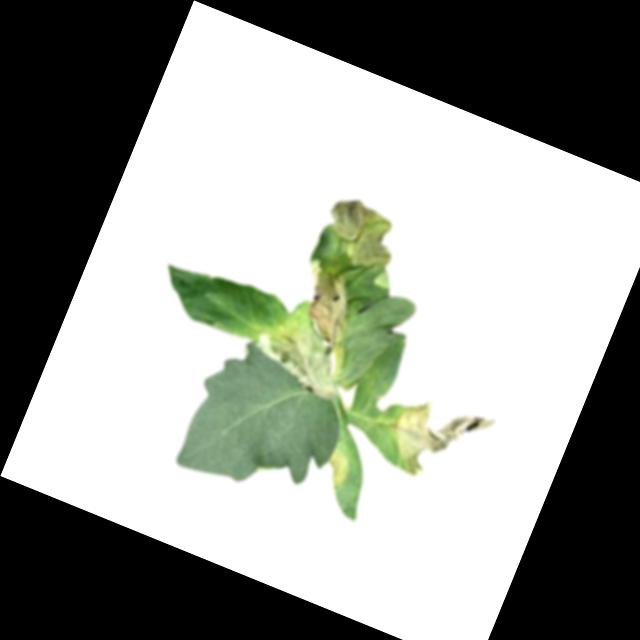Late_blight: (373, 380, 498, 499), (242, 289, 365, 403), (310, 189, 415, 287), (294, 257, 360, 316), (318, 447, 356, 492)
healthy: (170, 330, 360, 518)
